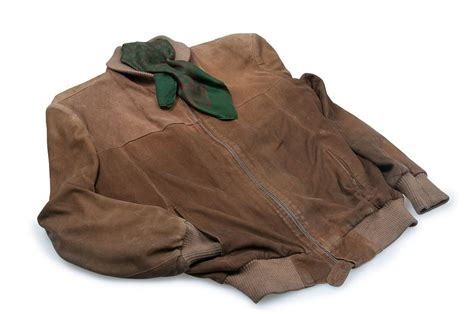gamuza: (37, 31, 427, 281)
